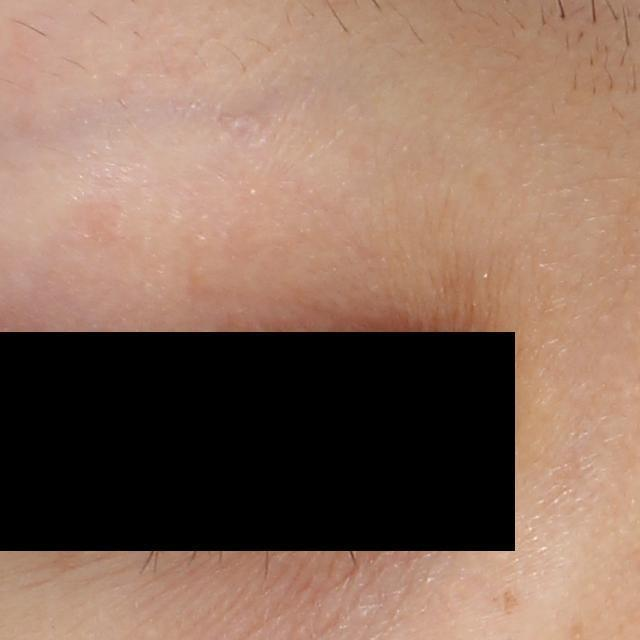melasma: (46, 526, 99, 566), (491, 584, 521, 614)
